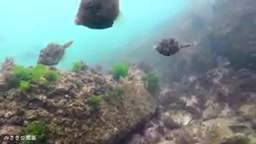kawahagi: (32, 39, 78, 66), (149, 35, 191, 58)
